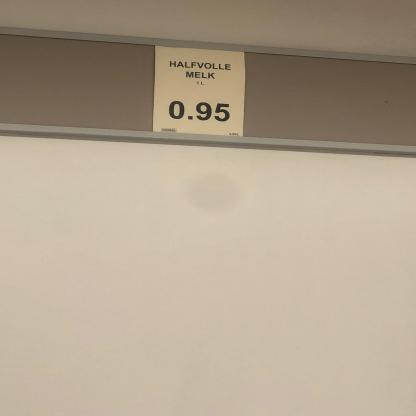prtg: (153, 47, 246, 137)
